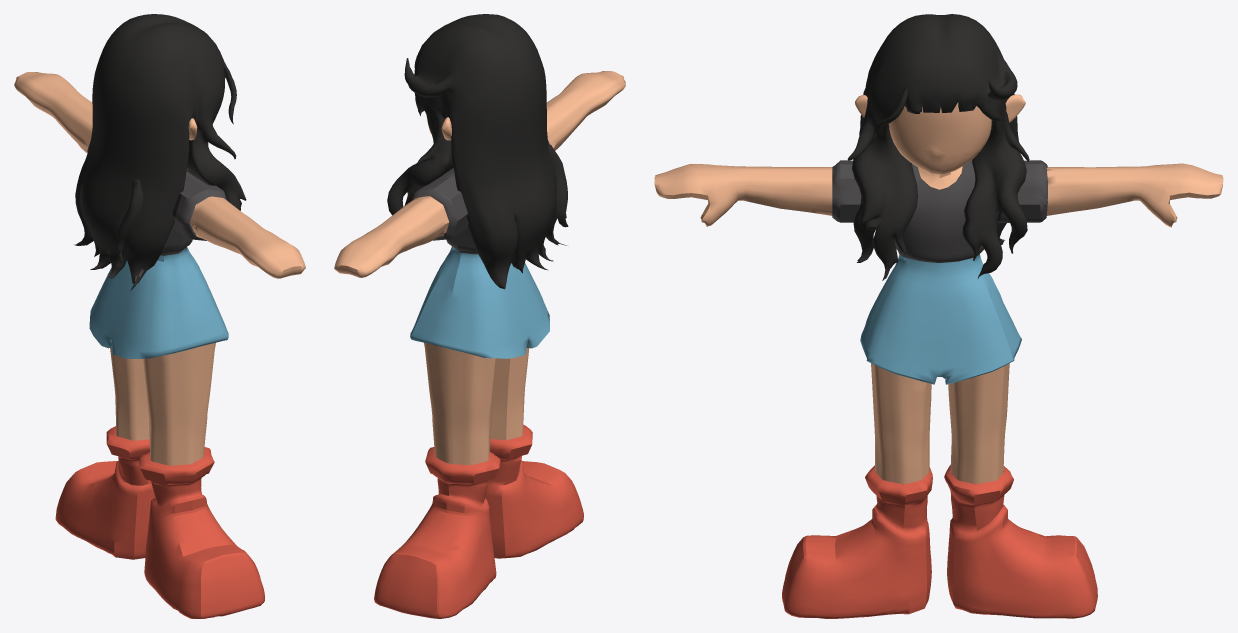
File: nicoly.glb
3 renders of one model, left to right at view 1: azimuth 30°, elevation 25°; view 2: azimuth 150°, elevation 25°; view 3: azimuth 270°, elevation 25°, orthographic. The views are drawn at different scales.
Parts seen in each view (by area): view 1: Retopo_tripo_node_6684ec73-7650-4ccd-a3af-e6cf4a2c9e5d.001; view 2: Retopo_tripo_node_6684ec73-7650-4ccd-a3af-e6cf4a2c9e5d.001; view 3: Retopo_tripo_node_6684ec73-7650-4ccd-a3af-e6cf4a2c9e5d.001.
Part boxes in pixels (x1=…): Retopo_tripo_node_6684ec73-7650-4ccd-a3af-e6cf4a2c9e5d.001: x1=14, y1=14, x2=305, y2=618; Retopo_tripo_node_6684ec73-7650-4ccd-a3af-e6cf4a2c9e5d.001: x1=334, y1=14, x2=625, y2=618; Retopo_tripo_node_6684ec73-7650-4ccd-a3af-e6cf4a2c9e5d.001: x1=654, y1=14, x2=1223, y2=618.
Size of the model in its own units: 1.26 by 5.19 by 4.64.
